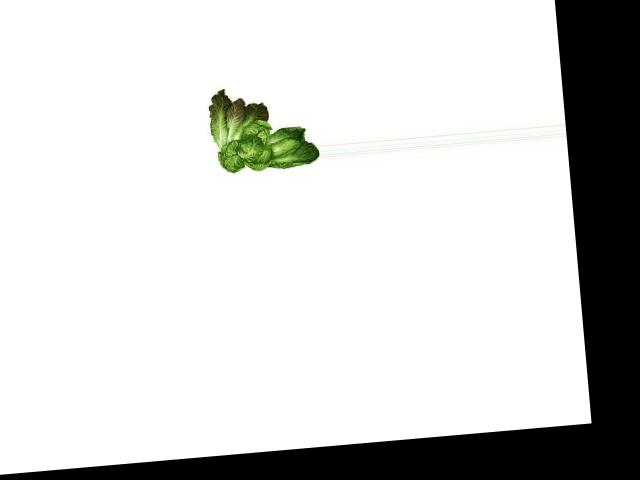lettuce: (204, 76, 321, 180)
